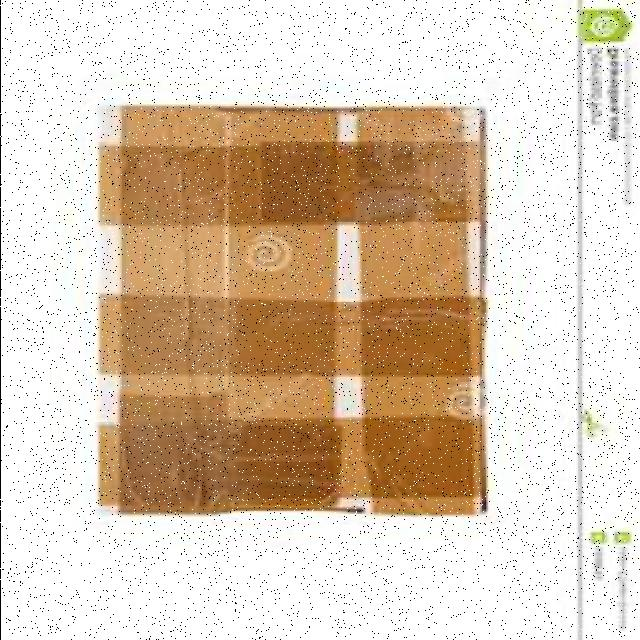defect: (85, 94, 497, 529)
